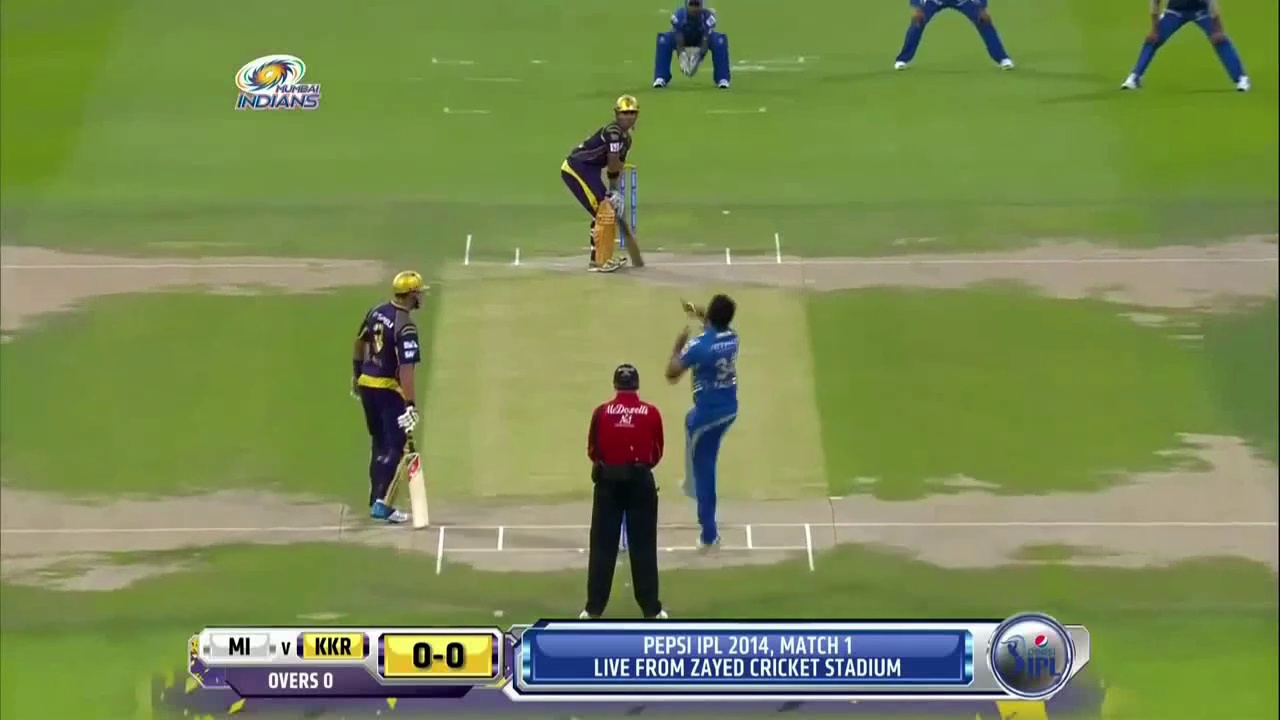bat: (404, 452, 433, 531), (620, 216, 646, 269)
